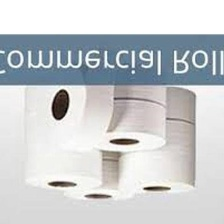tissue: (24, 85, 116, 155), (118, 117, 199, 196), (88, 95, 168, 152), (26, 144, 104, 192), (60, 158, 138, 203), (160, 85, 199, 126)
